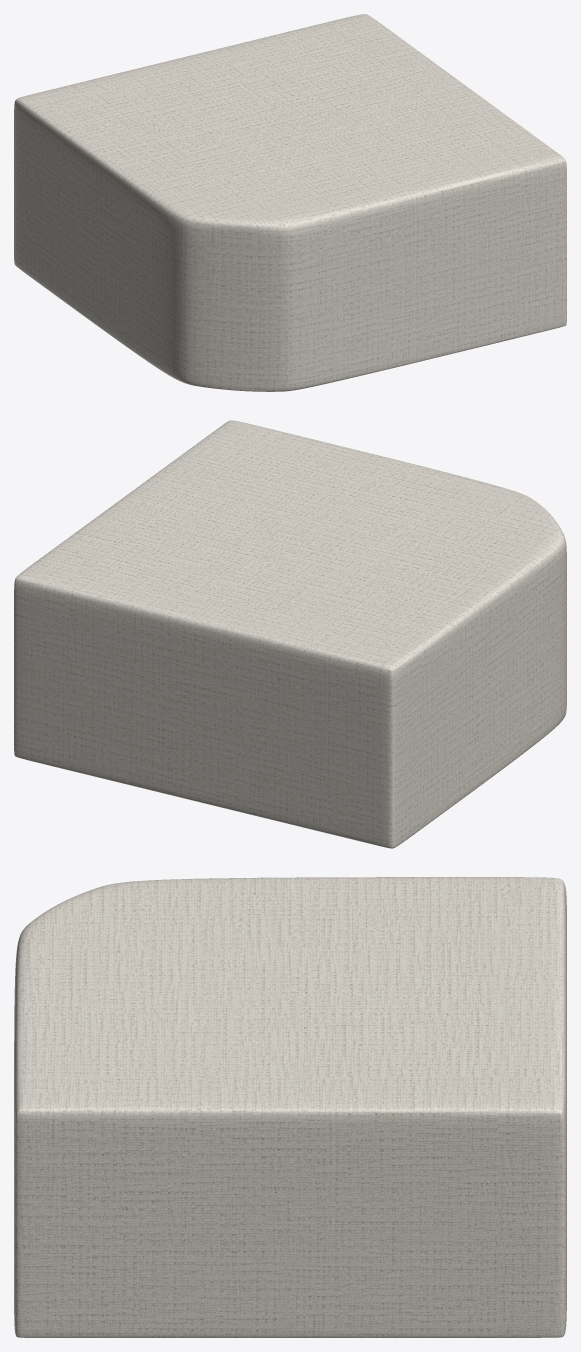
The model's file is footstool_round_95_alpine_ivory.glb.
The picture shows the model from 3 angles, top to bottom: view 1: azimuth 30°, elevation 25°; view 2: azimuth 150°, elevation 25°; view 3: azimuth 270°, elevation 25°; orthographic projection. The views are drawn at different scales.
Parts seen in each view (by area): view 1: Box085; view 2: Box085; view 3: Box085.
Boxes of the visible parts, left/top/right/bottom form: Box085: left=14, top=14, right=566, bottom=391; Box085: left=14, top=420, right=566, bottom=848; Box085: left=14, top=877, right=566, bottom=1337.
Bounding box in the file's own units: 0.9702 × 0.4558 × 0.9611.
Materials: 2 (2 with a texture image).
